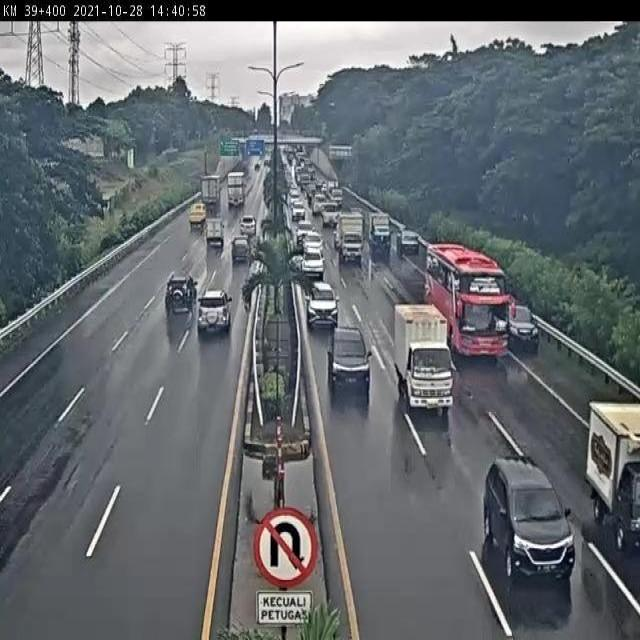Bus: (424, 240, 509, 360)
Car: (484, 458, 574, 578), (330, 320, 371, 394), (506, 303, 540, 355), (305, 281, 339, 329), (198, 289, 234, 334), (165, 272, 197, 313), (299, 243, 324, 280), (398, 228, 420, 256), (295, 222, 314, 252), (231, 236, 250, 264), (188, 203, 207, 230), (320, 203, 340, 228), (239, 214, 257, 236), (289, 254, 305, 278), (290, 199, 306, 222), (300, 174, 315, 196), (329, 187, 343, 210), (312, 195, 326, 215), (289, 187, 302, 206), (296, 164, 306, 183), (320, 182, 328, 195), (254, 162, 260, 170)
Truck: (585, 406, 640, 551), (390, 297, 459, 407), (336, 210, 365, 265), (368, 212, 391, 260), (200, 173, 221, 213), (227, 170, 245, 207), (204, 217, 223, 250)
